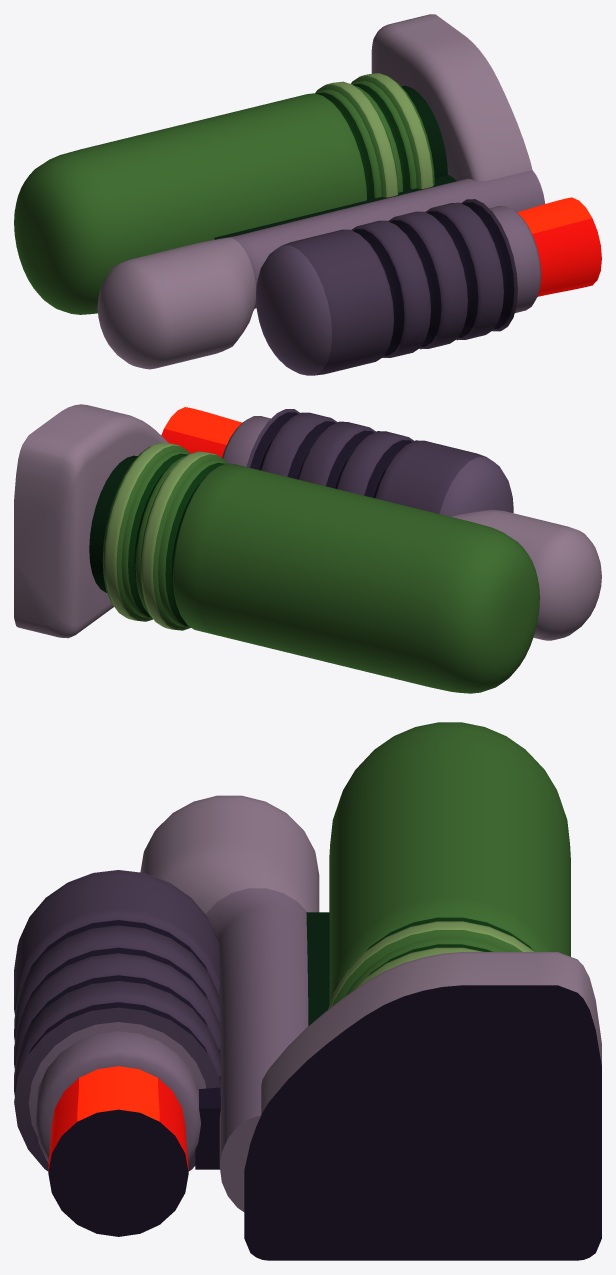
The model's file is tank_pod_left_201.glb.
3 views of the same model, one above another, from view 1: azimuth 30°, elevation 25°; view 2: azimuth 150°, elevation 25°; view 3: azimuth 270°, elevation 25° (orthographic). The views are drawn at different scales.
Visible parts, largest first — view 1: tank.001, coil.001, rail.001, block.001, core.001, web_tank.001; view 2: tank.001, block.001, coil.001, rail.001, core.001; view 3: block.001, tank.001, coil.001, rail.001, core.001, web_tank.001, web_coil.001.
Part boxes in pixels (x1,y1,x2,y2): tank.001: [14, 73, 447, 314]; coil.001: [256, 199, 541, 375]; rail.001: [97, 170, 545, 369]; block.001: [371, 14, 532, 180]; core.001: [517, 197, 601, 296]; web_tank.001: [214, 175, 456, 239]; tank.001: [89, 442, 539, 693]; block.001: [14, 404, 168, 638]; coil.001: [222, 409, 513, 516]; rail.001: [451, 509, 601, 640]; core.001: [161, 407, 241, 457]; block.001: [244, 952, 601, 1260]; tank.001: [328, 722, 570, 1009]; coil.001: [14, 870, 220, 1171]; rail.001: [140, 795, 319, 1211]; core.001: [48, 1066, 188, 1236]; web_tank.001: [306, 912, 329, 1025]; web_coil.001: [195, 1022, 220, 1169].
Size of the model in its own units: 23.65 by 9.55 by 18.
